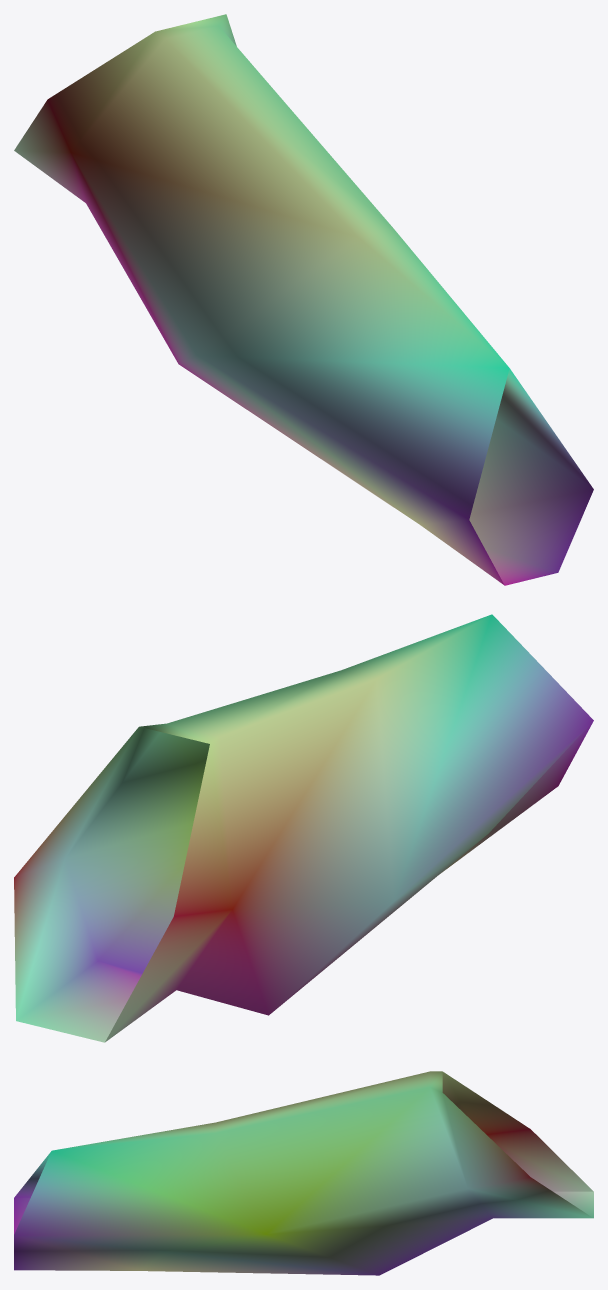
3 renders of one model, top to bottom at view 1: azimuth 30°, elevation 25°; view 2: azimuth 150°, elevation 25°; view 3: azimuth 270°, elevation 25°, orthographic. The views are drawn at different scales.
Parts seen in each view (by area): view 1: part; view 2: part; view 3: part.
Part boxes in pixels (bbox=[...]): part: bbox=[14, 14, 593, 585]; part: bbox=[14, 614, 593, 1042]; part: bbox=[14, 1071, 593, 1275].
Size of the model in its own units: 11 by 17 by 46.
